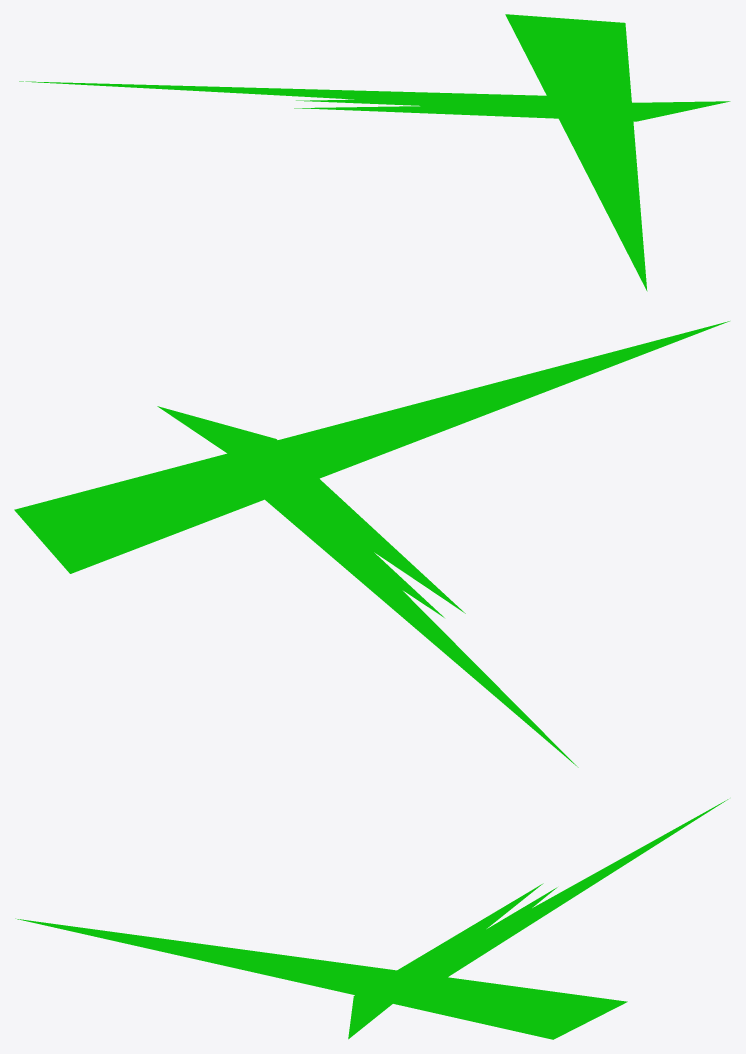
3 renders of one model, top to bottom at view 1: azimuth 30°, elevation 25°; view 2: azimuth 150°, elevation 25°; view 3: azimuth 270°, elevation 25°, orthographic. The views are drawn at different scales.
Size of the model in its own units: 120 by 0 by 150.
